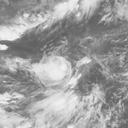cyclone: (39, 55, 70, 85)
